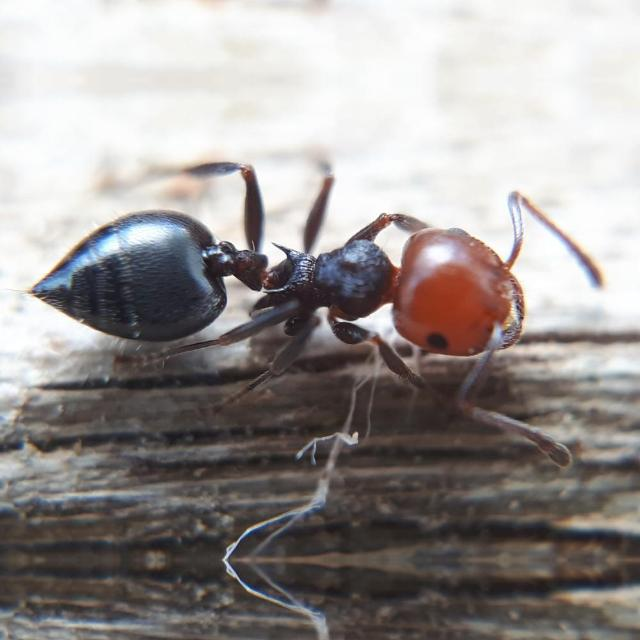Crematogaster: (26, 184, 564, 426)
